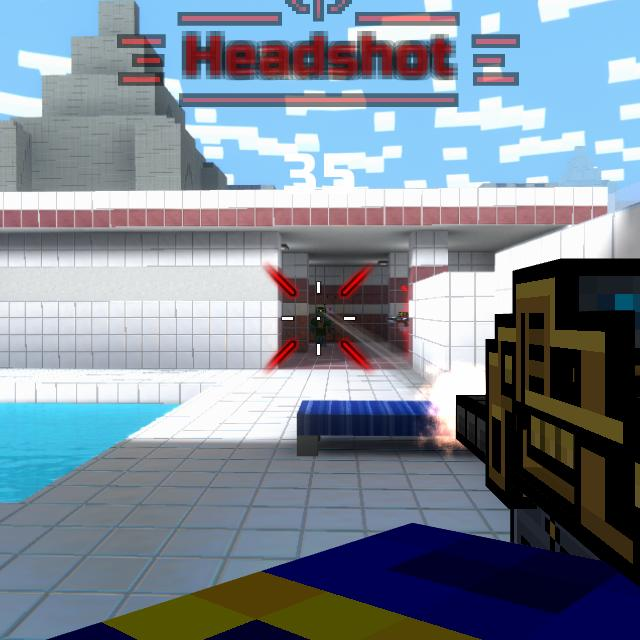Enemy: (397, 304, 409, 356), (401, 298, 411, 350), (399, 300, 409, 333)
